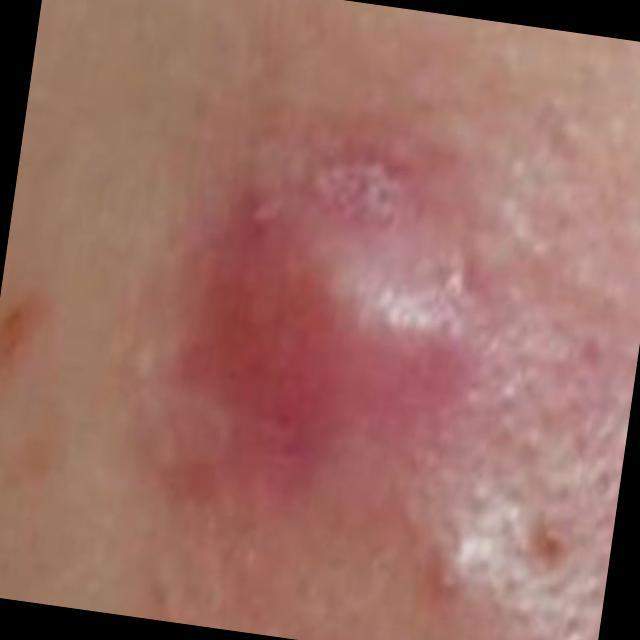nodule: (194, 146, 468, 456)
